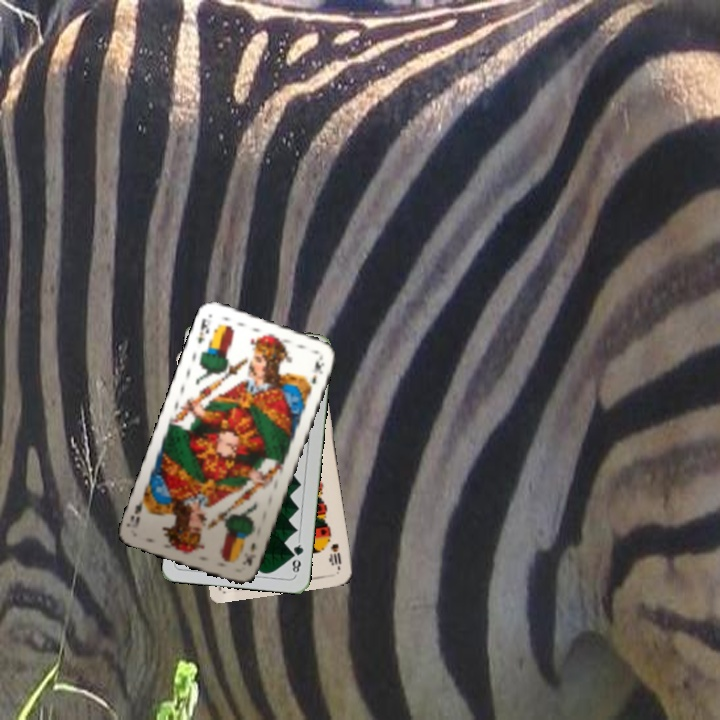EK: (194, 314, 212, 347), (238, 539, 258, 568)
G8: (287, 537, 306, 577)
S10: (327, 540, 344, 571)
